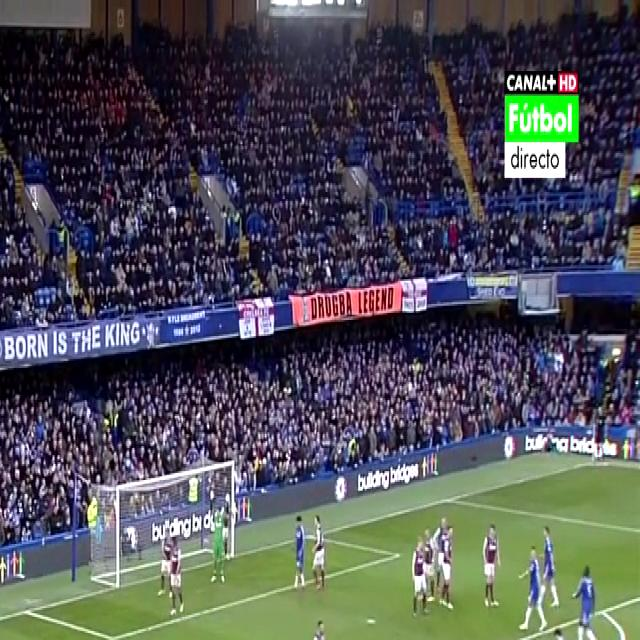goalkeeper: (202, 507, 222, 593)
soccer-player: (517, 535, 550, 640), (306, 504, 333, 601), (480, 514, 504, 620), (534, 516, 559, 614), (572, 556, 601, 640), (434, 518, 459, 612), (405, 535, 430, 624), (158, 523, 182, 613), (291, 508, 314, 600), (306, 613, 335, 640), (544, 624, 574, 640)
